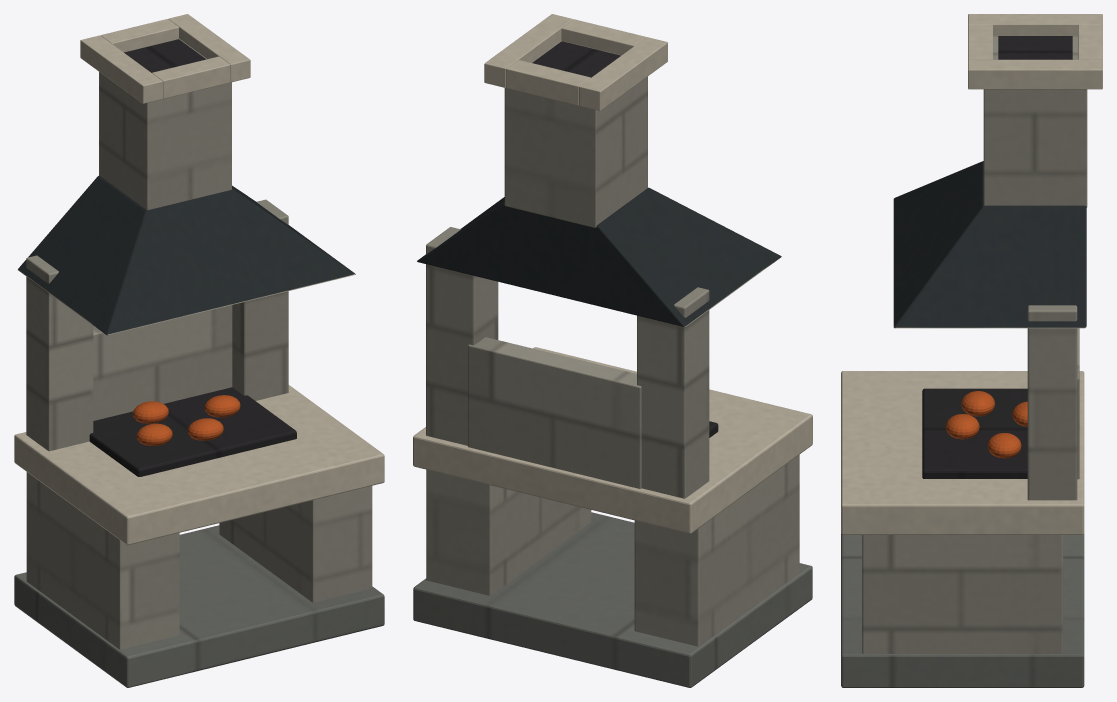
Rendered from Forge.fbx.
3 views of the same model, side by side, from view 1: azimuth 30°, elevation 25°; view 2: azimuth 150°, elevation 25°; view 3: azimuth 270°, elevation 25° (orthographic). The views are drawn at different scales.
Parts seen in each view (by area): view 1: Forge.001; view 2: Forge.001; view 3: Forge.001.
Part boxes in pixels (x1,y1,x2,y2): Forge.001: (14, 14, 384, 687); Forge.001: (413, 14, 812, 687); Forge.001: (841, 14, 1102, 687).
Bounding box in the file's own units: 2.06 × 4.13 × 1.69.
